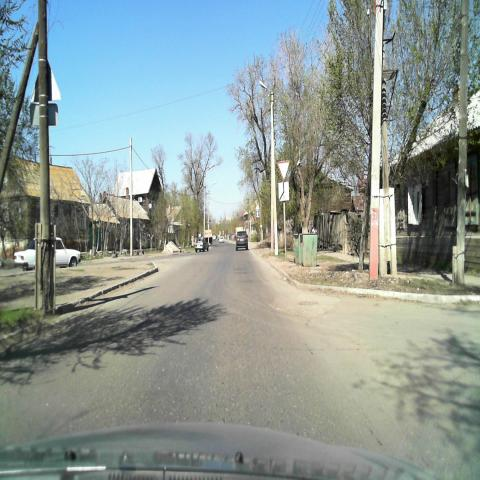2_4: (278, 161, 289, 181)
5_5: (255, 209, 260, 217)
8_13: (278, 181, 290, 201)
